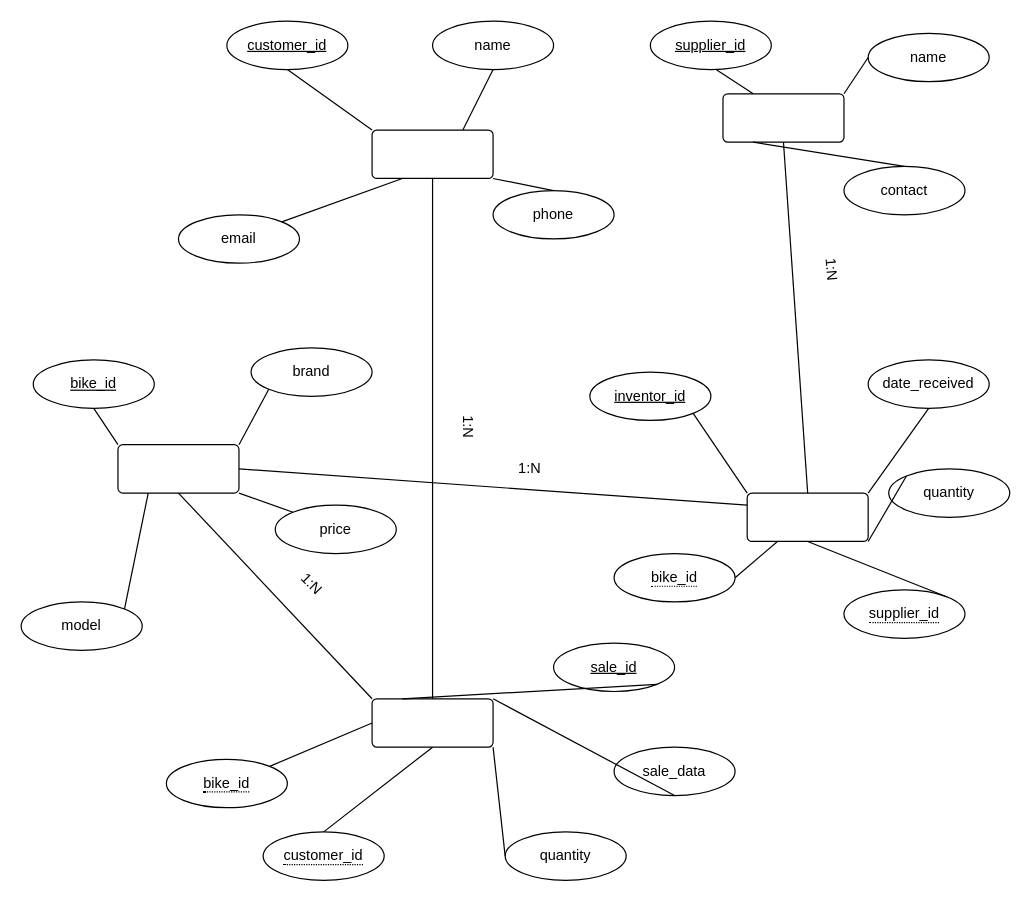
This 1031x901 diagram has some shape labels left out. Here are the shapes that lost their labels. From the top down, the centre of each, then its label:
point 783,117: suppliers
point 432,153: Customers
point 178,468: bikes
point 807,516: inventory
point 432,722: sales
